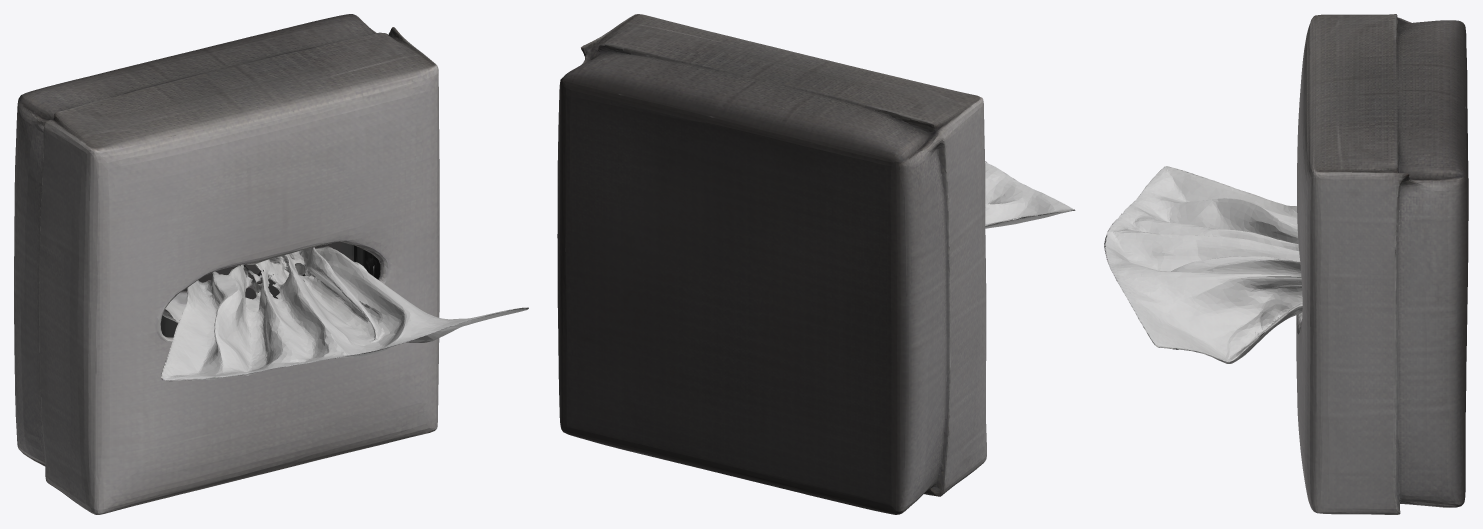
The model's file is tissues_visual_0.obj.
3 views of the same model, side by side, from view 1: azimuth 30°, elevation 25°; view 2: azimuth 150°, elevation 25°; view 3: azimuth 270°, elevation 25° (orthographic). The views are drawn at different scales.
Size of the model in its own units: 0.9985 by 0.9848 by 0.916.
1 material, 1 textured.
